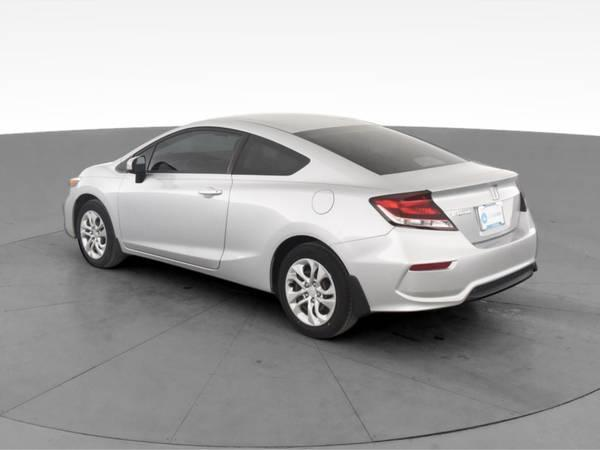Front_Fender: (65, 168, 125, 251)
Front_Left_Door: (119, 173, 232, 276)
Front_Left_Window: (125, 126, 247, 174)
Left_Taillight: (369, 190, 459, 231)
Rear_Bumper: (329, 209, 539, 313)
Rear_Fender: (217, 137, 394, 292)
Rear_Windshield: (295, 126, 467, 178)
Roof: (128, 111, 419, 191)
Tailgate: (379, 162, 520, 241)
Wheel: (276, 243, 353, 337), (77, 199, 123, 266)
